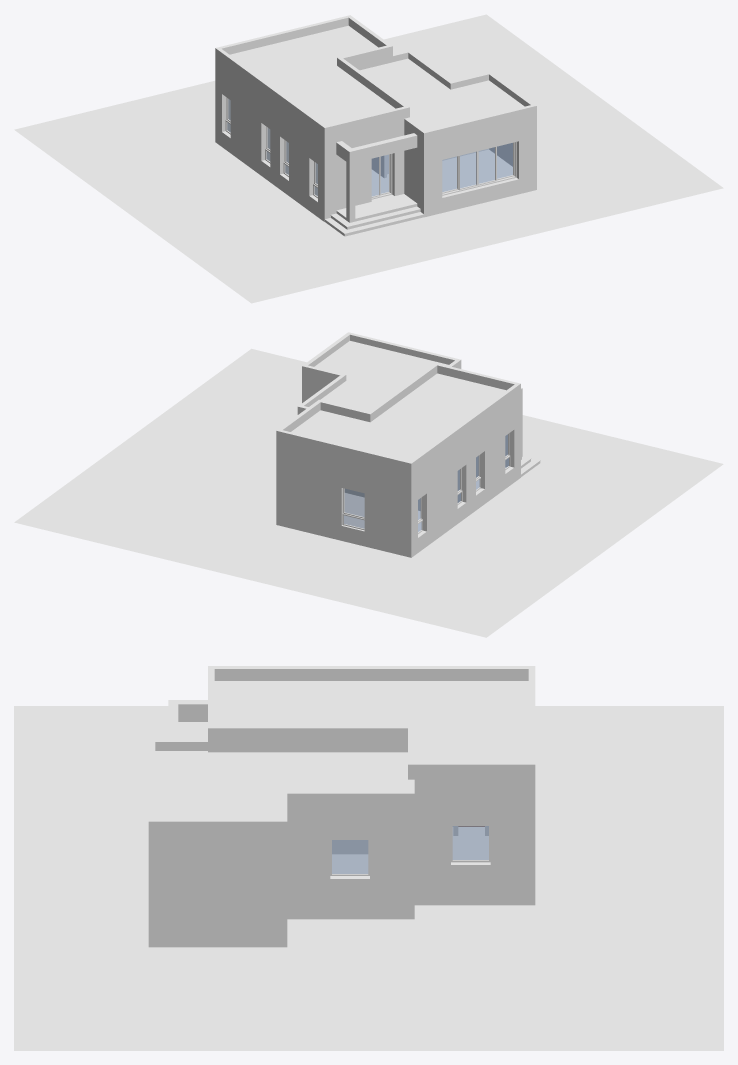
3 renders of one model, top to bottom at view 1: azimuth 30°, elevation 25°; view 2: azimuth 150°, elevation 25°; view 3: azimuth 270°, elevation 25°, orthographic. The views are drawn at different scales.
Parts seen in each view (by area): view 1: Root Node, 5808, 9414, 9496, 7535, 5842, 10467, 7940, 7365, 6540; view 2: Root Node, 5808, 9414, 9496, Component#5, 10467; view 3: Root Node, 5808, 9414, 9496, Component#7 (×2), 10467, 7992.
Part boxes in pixels (left/top/right/bottom): Root Node: left=14, top=14, right=723, bottom=303; 5808: left=215, top=15, right=536, bottom=221; 9414: left=230, top=25, right=394, bottom=125; 9496: left=360, top=58, right=524, bottom=130; 7535: left=442, top=142, right=516, bottom=195; 5842: left=325, top=194, right=423, bottom=236; 10467: left=230, top=132, right=512, bottom=196; 7940: left=352, top=133, right=417, bottom=162; 7365: left=371, top=154, right=392, bottom=199; 6540: left=346, top=148, right=355, bottom=219; Root Node: left=14, top=348, right=723, bottom=637; 5808: left=276, top=332, right=520, bottom=557; 9414: left=291, top=373, right=505, bottom=460; 9496: left=314, top=341, right=448, bottom=411; Component#5: left=342, top=488, right=364, bottom=530; 10467: left=344, top=467, right=506, bottom=531; Root Node: left=14, top=706, right=723, bottom=1050; 5808: left=148, top=666, right=535, bottom=947; 9414: left=214, top=681, right=528, bottom=761; 9496: left=155, top=751, right=407, bottom=818; Component#7 (×2): left=330, top=826, right=490, bottom=875; 10467: left=332, top=826, right=488, bottom=873; 7992: left=178, top=700, right=207, bottom=721.
Bounding box in the file's own units: 24.68 × 4.7 × 21.48.
